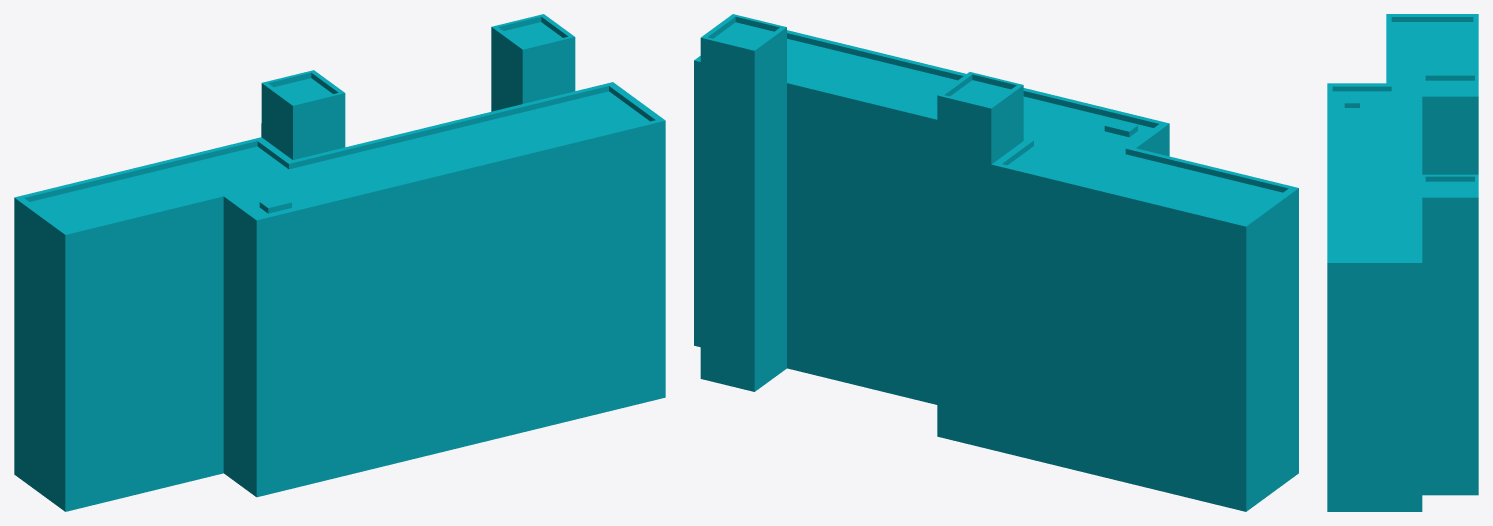
File: student7.FBX
3 views of the same model, side by side, from view 1: azimuth 30°, elevation 25°; view 2: azimuth 150°, elevation 25°; view 3: azimuth 270°, elevation 25° (orthographic). The views are drawn at different scales.
Visible parts, largest first — view 1: 学生公寓7; view 2: 学生公寓7; view 3: 学生公寓7.
Part boxes in pixels (x1,y1,x2,y2): 学生公寓7: (14, 14, 665, 511); 学生公寓7: (694, 14, 1298, 511); 学生公寓7: (1327, 14, 1478, 511).
Bounding box in the file's own units: 29.39 × 16.39 × 7.55.
